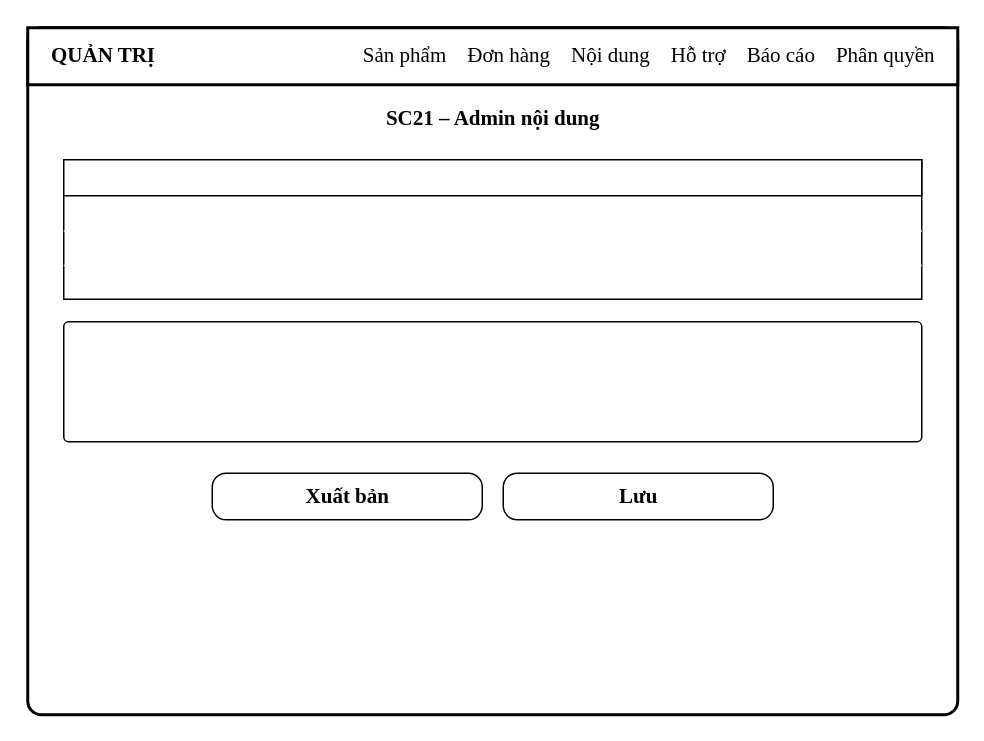
Some shapes in this 984 by 741 pixel diagram are drawn without their labels. The shapes that lost their labels are listed below. From the top down, each one's box as (x1, y1, x2, y2) in pixels, then its label:
(62, 158, 922, 196): Tài khoản khách hàng
(62, 320, 922, 442): Nội dung website, Giải Trí, cửa hàng
